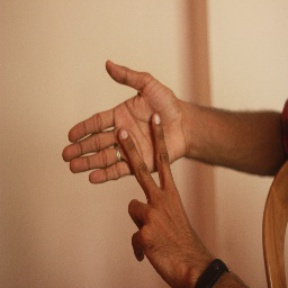N: (61, 57, 201, 259)
